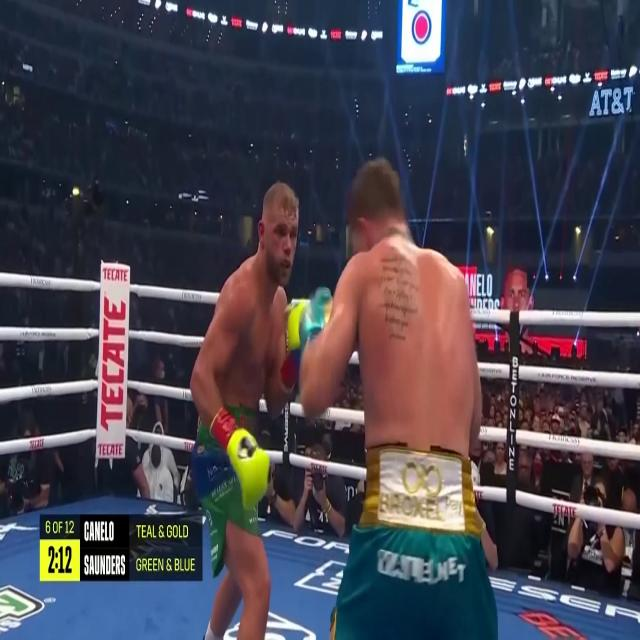boxer_1: (218, 183, 299, 407)
boxer_2: (350, 159, 475, 456)
gloves_1: (209, 408, 270, 510), (282, 299, 309, 389)
gloves_2: (299, 287, 332, 354)
